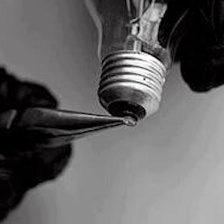light_bulb: (74, 0, 212, 128)
